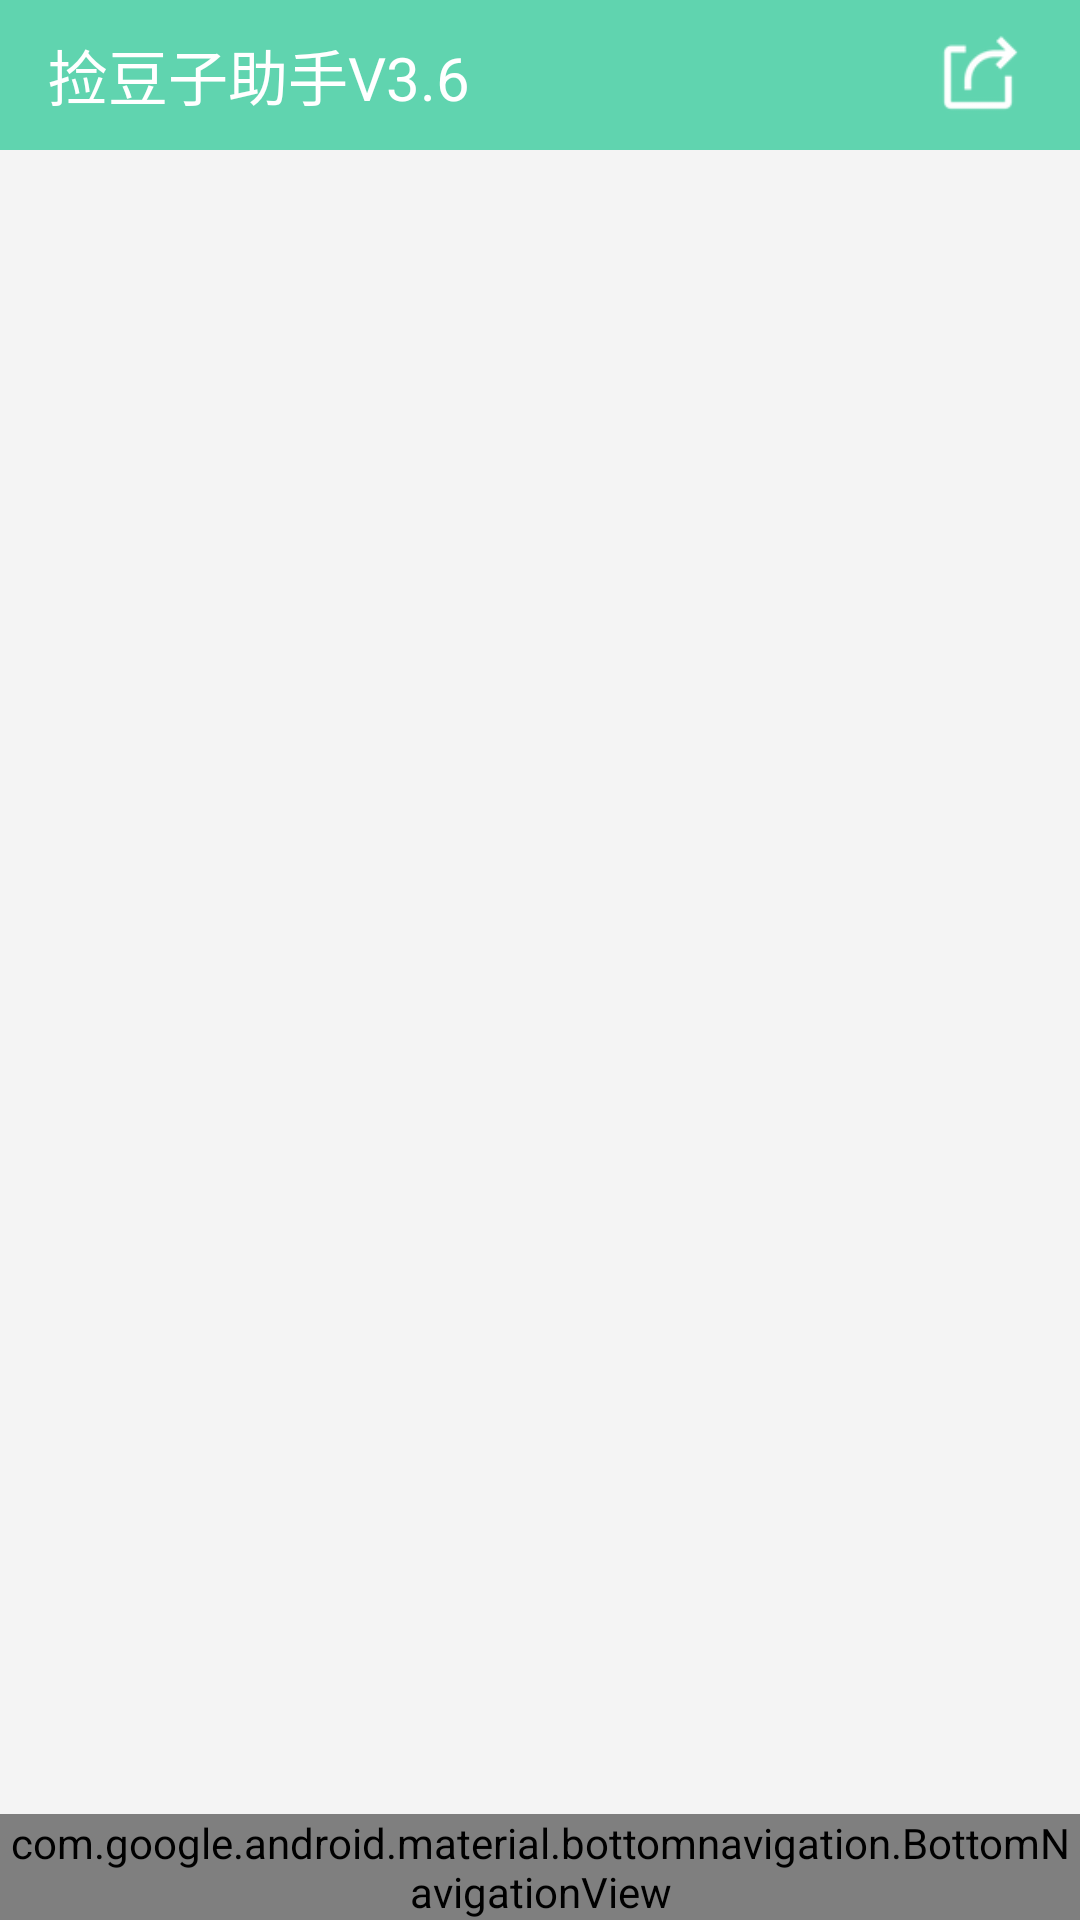

Point at icon controls on the screen. Image size 1080 x 1920, points as point (x, y).
share: point (980, 72)
